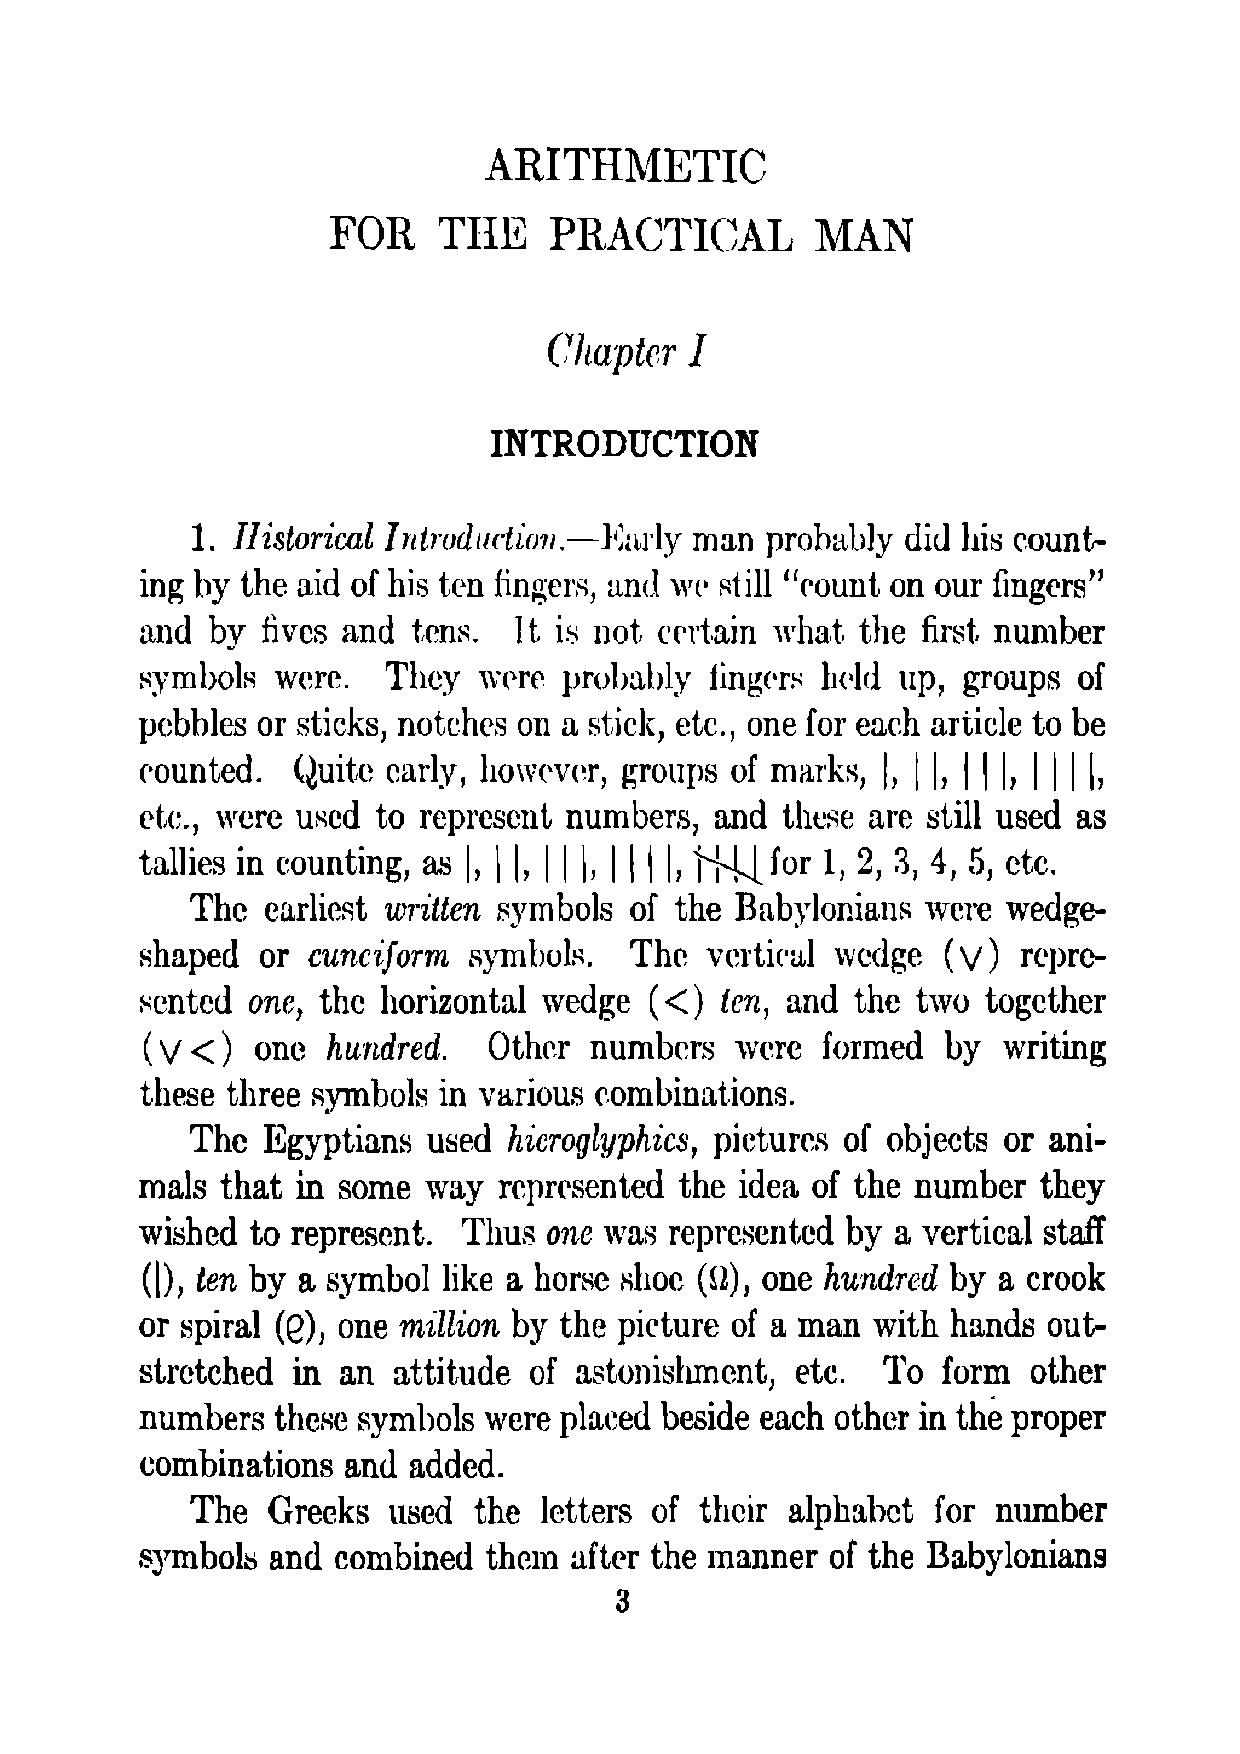chapter: (330, 136, 917, 260), (483, 330, 764, 464)
content: (132, 517, 1113, 1577)
content_pagenumber: (612, 1586, 629, 1616)
